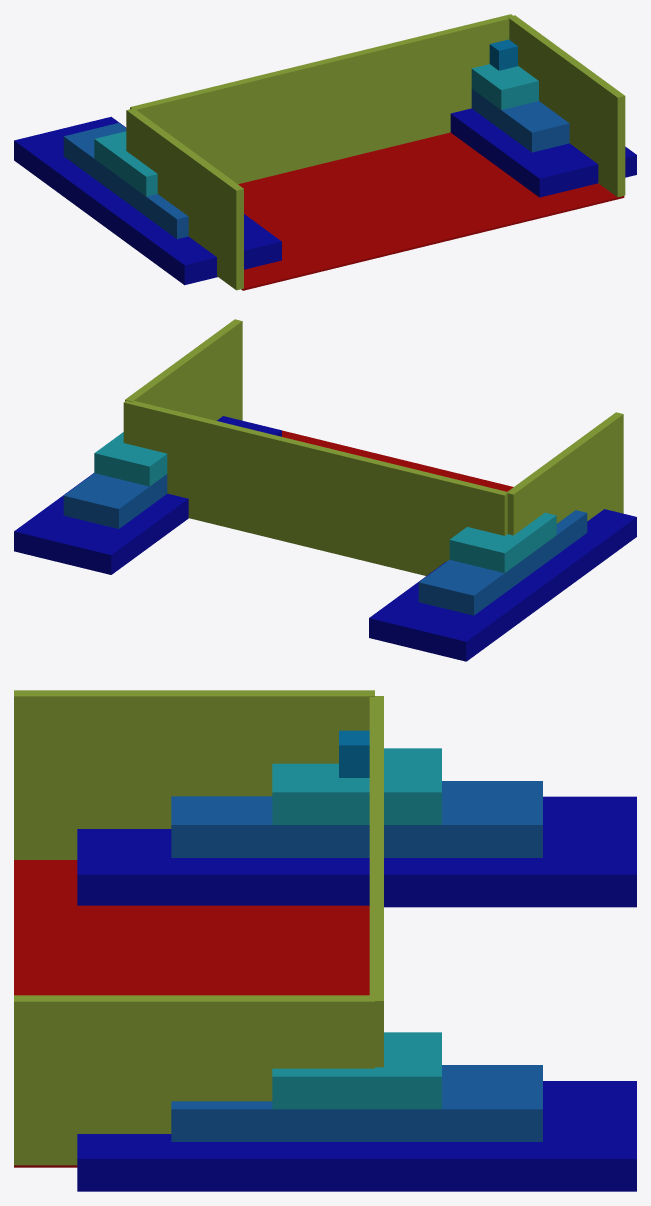
File: redfloor.obj
The picture shows the model from 3 angles, top to bottom: view 1: azimuth 30°, elevation 25°; view 2: azimuth 150°, elevation 25°; view 3: azimuth 270°, elevation 25°; orthographic projection. The views are drawn at different scales.
Visible parts, largest first — view 1: Cube.003, Cube, Cube.004, Cube.002, Cube.001, Cube.011, Cube.005, Cube.010, Cube.009, Cube.006, Cube.008; view 2: Cube.003, Cube.004, Cube.002, Cube.011, Cube.001, Cube.005, Cube.010, Cube.006, Cube.009, Cube; view 3: Cube.001, Cube.002, Cube, Cube.004, Cube.011, Cube.005, Cube.010, Cube.006, Cube.009, Cube.003, Cube.007.
Part boxes in pixels (box(x1,y1,x2,y2)): Cube.003: box(130, 14, 512, 184); Cube: box(238, 132, 624, 290); Cube.004: box(14, 116, 281, 285); Cube.002: box(126, 108, 243, 290); Cube.001: box(507, 15, 625, 197); Cube.011: box(450, 108, 636, 197); Cube.005: box(63, 123, 188, 238); Cube.010: box(471, 89, 569, 152); Cube.009: box(471, 64, 538, 109); Cube.006: box(94, 131, 157, 196); Cube.008: box(489, 39, 517, 70); Cube.003: box(123, 400, 507, 575); Cube.004: box(369, 509, 636, 661); Cube.002: box(506, 412, 623, 535); Cube.011: box(14, 416, 281, 574); Cube.001: box(125, 319, 242, 420); Cube.005: box(418, 510, 587, 615); Cube.010: box(63, 473, 167, 528); Cube.006: box(449, 512, 556, 573); Cube.009: box(94, 432, 167, 486); Cube: box(282, 430, 513, 491); Cube.001: box(14, 995, 374, 1165); Cube.002: box(14, 690, 374, 859); Cube: box(14, 860, 369, 1167); Cube.004: box(77, 796, 636, 907); Cube.011: box(77, 1081, 636, 1191); Cube.005: box(171, 781, 542, 857); Cube.010: box(171, 1065, 542, 1141); Cube.006: box(272, 748, 441, 824); Cube.009: box(272, 1032, 441, 1109); Cube.003: box(369, 696, 383, 1067); Cube.007: box(339, 730, 369, 777).
Bounding box in the file's own units: 47.47 × 10.2 × 34.51.
